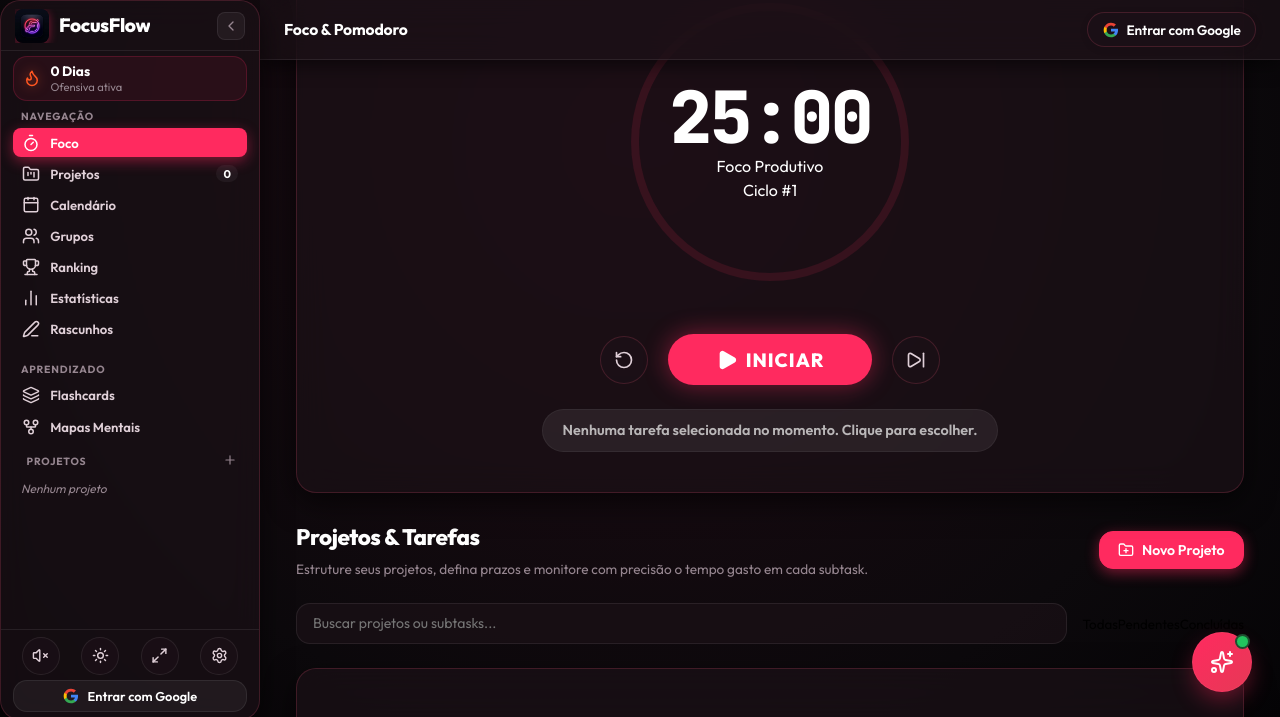
Scenario: Fluxos do Timer Pomodoro › deve iniciar e pausar o cronômetro
(page scrolled)
Click the button with test id "timer-start-btn" at (771, 360), box [668,334,873,385]
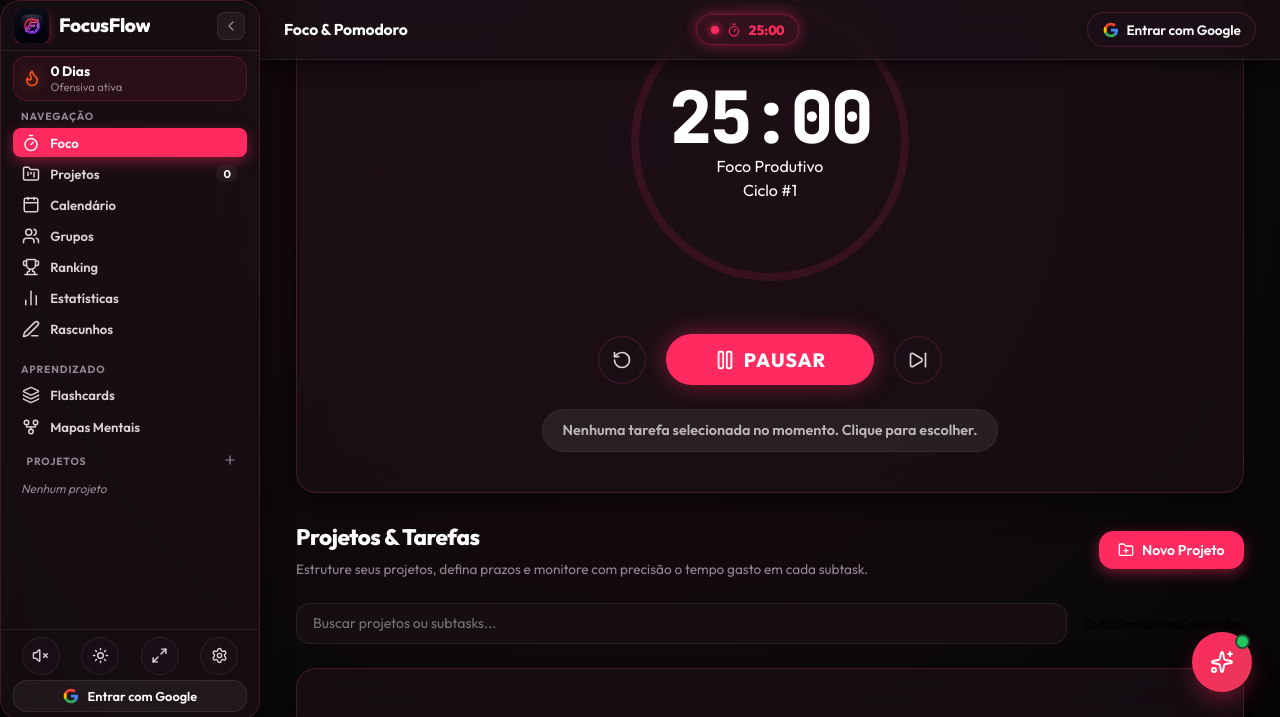
Expected: the element with test id "timer-start-btn" reads "Pausar", [744,348,826,372]
Click the button with test id "timer-start-btn" at (770, 360), box [666,334,874,385]
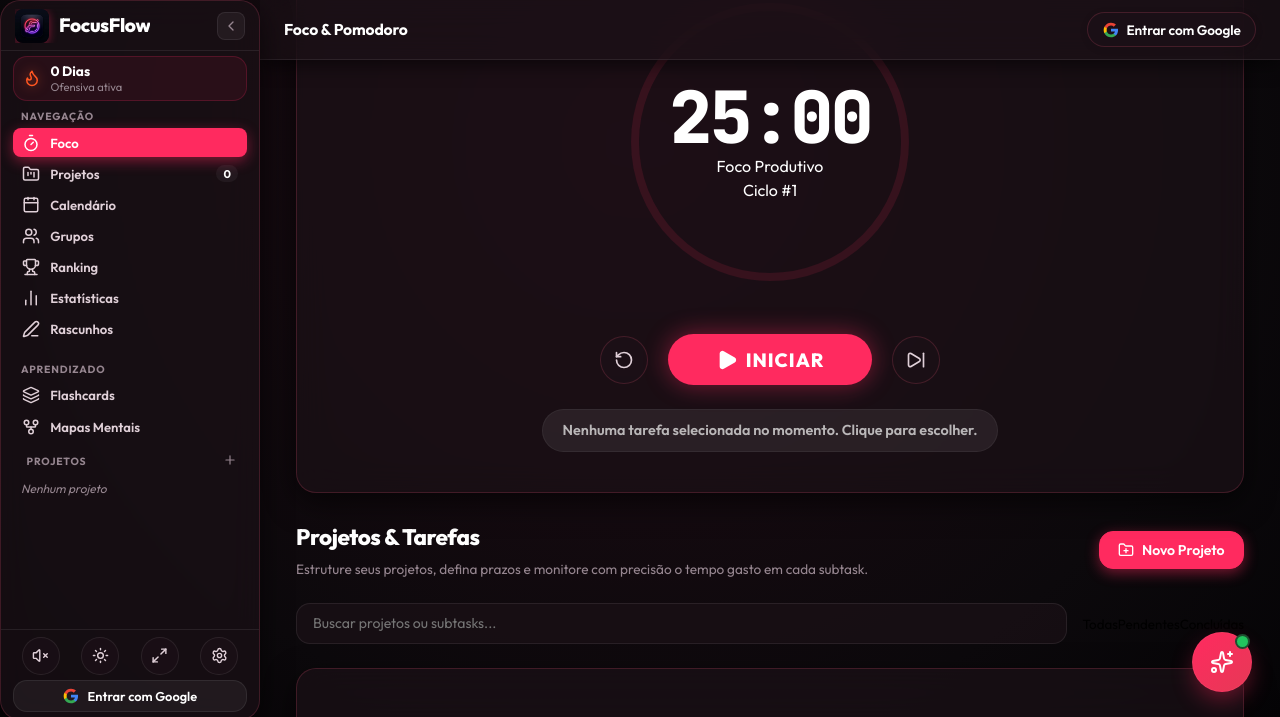
Expected: the element with test id "timer-start-btn" reads "Iniciar", [746,348,825,372]
